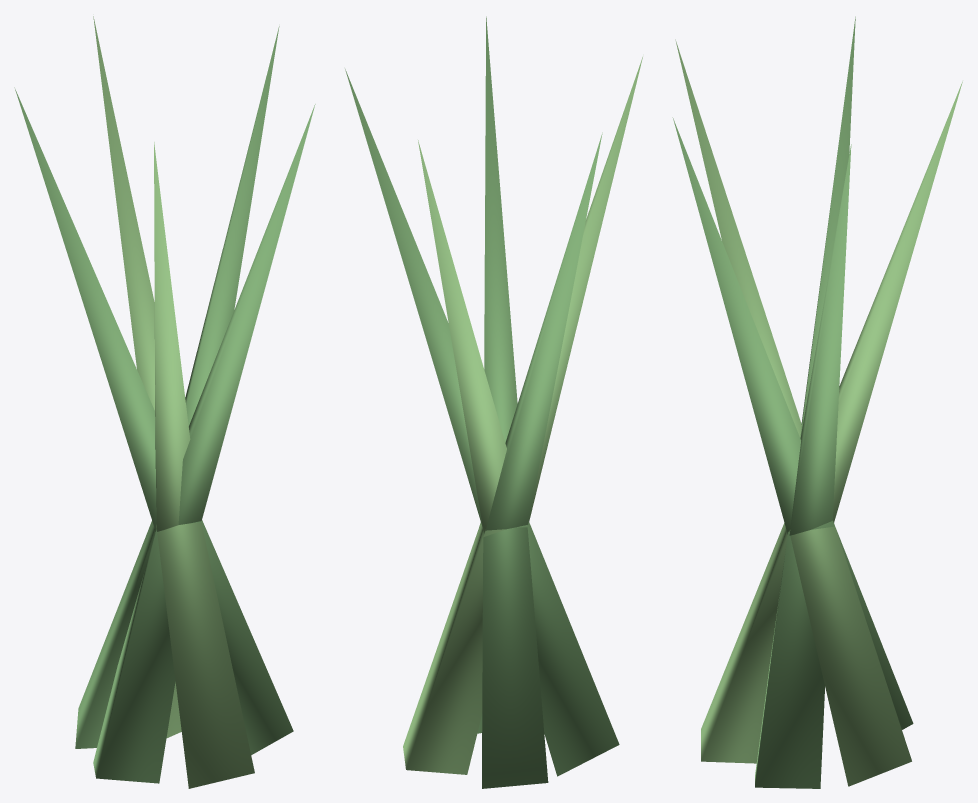
File: grass.glb
3 views of the same model, side by side, from view 1: azimuth 30°, elevation 25°; view 2: azimuth 150°, elevation 25°; view 3: azimuth 270°, elevation 25° (orthographic).
Parts seen in each view (by area): view 1: Grass; view 2: Grass; view 3: Grass.
Part boxes in pixels (box(x1,y1,x2,y2)): Grass: box(14, 16, 315, 788); Grass: box(345, 16, 642, 788); Grass: box(672, 16, 962, 788).
Size of the model in its own units: 0.0621 by 0.155 by 0.0596.
